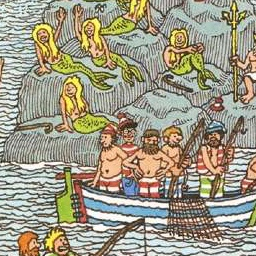waldo: (117, 112, 140, 154), (117, 112, 138, 144)
